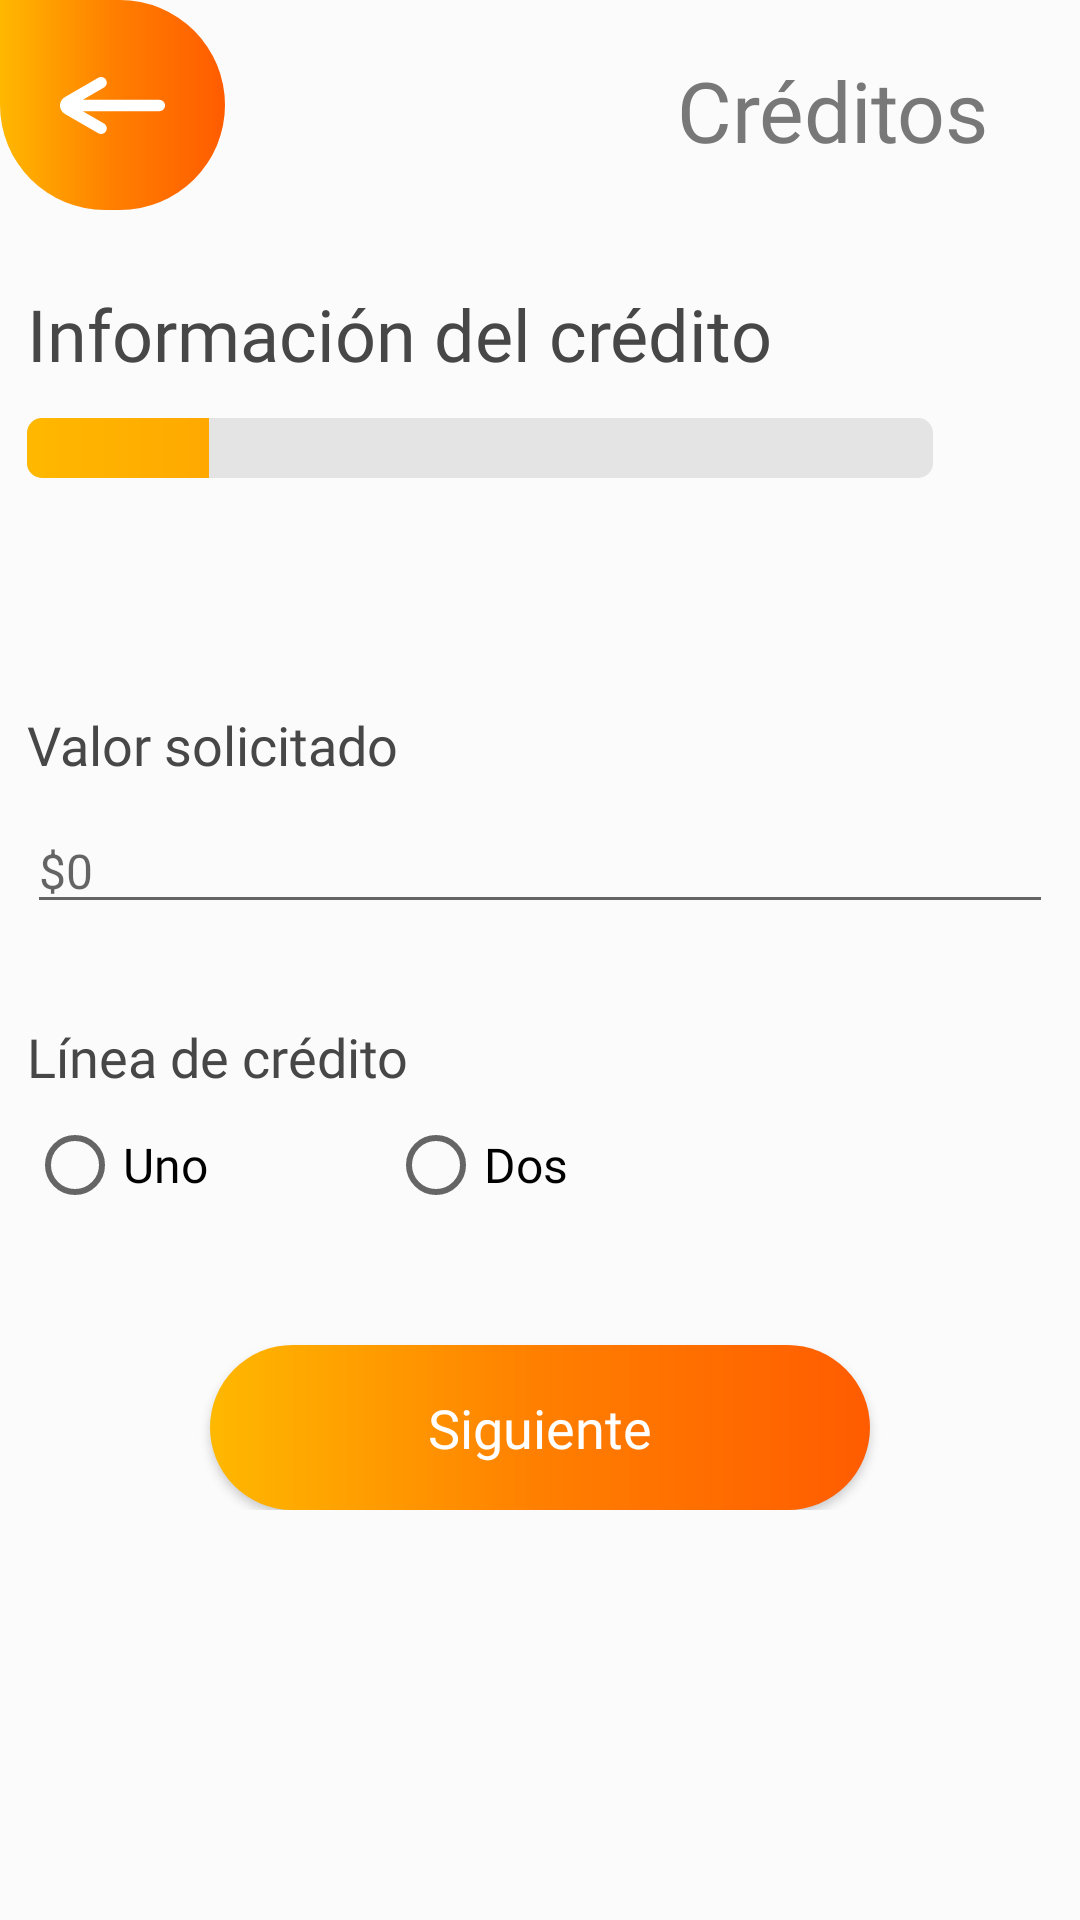

Where to tap for icons on this 1080*1920 app screen, as point (x, y):
backarrow: point (112, 105)
